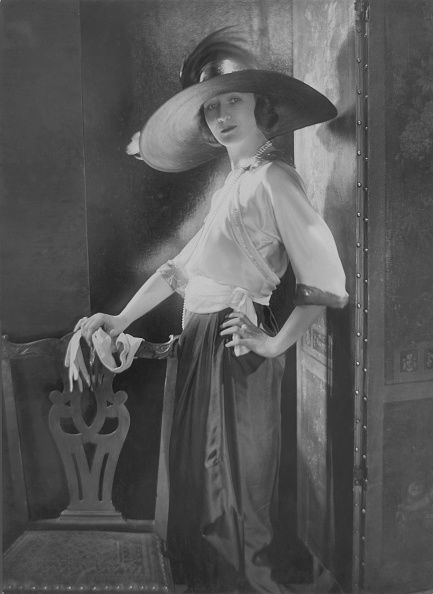em pe: (108, 43, 331, 594)
